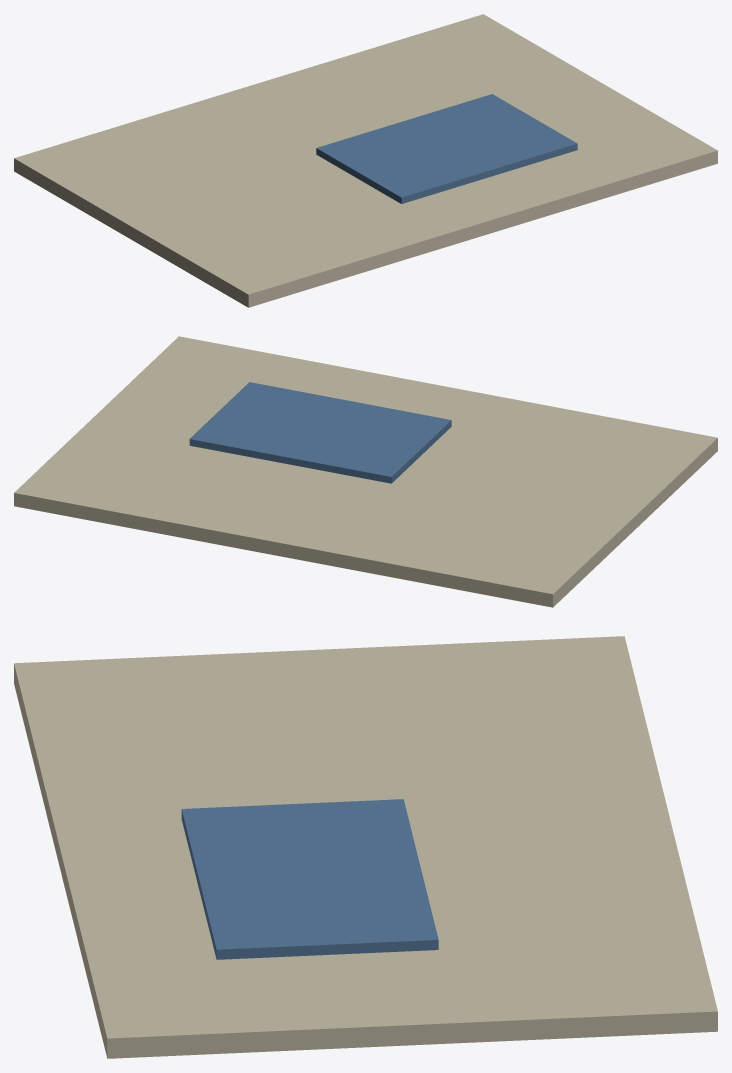
The model's file is mall_map.glb.
3 views of the same model, one above another, from view 1: azimuth 30°, elevation 25°; view 2: azimuth 150°, elevation 25°; view 3: azimuth 270°, elevation 25° (orthographic). The views are drawn at different scales.
Visible parts, largest first — view 1: mall_map; view 2: mall_map; view 3: mall_map.
Boxes of the visible parts, bbox=[...] form: mall_map: bbox=[14, 14, 717, 307]; mall_map: bbox=[14, 336, 717, 607]; mall_map: bbox=[14, 636, 717, 1058].
Size of the model in its own units: 0.1706 by 0.006 by 0.1261.
